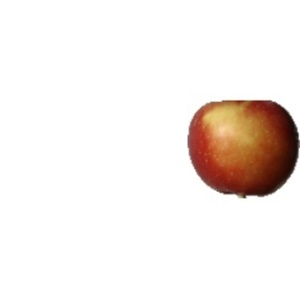maçã braeburn: (186, 98, 300, 194)
